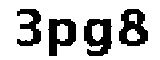3: (12, 6, 44, 50)
8: (118, 5, 151, 53)
g: (81, 13, 115, 60)
p: (46, 13, 79, 60)
